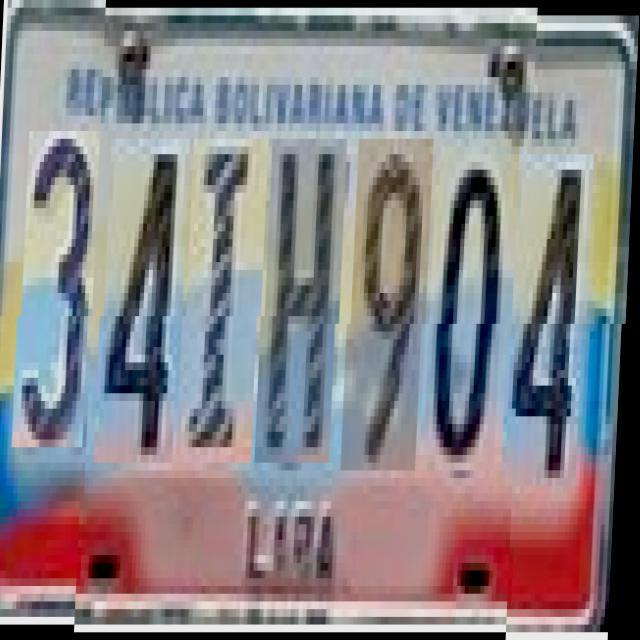3: (19, 139, 101, 455)
4: (102, 138, 192, 462), (510, 146, 596, 478)
9: (349, 138, 435, 470)
H: (262, 138, 348, 462)
I: (184, 138, 270, 462)
O: (431, 147, 513, 470)
